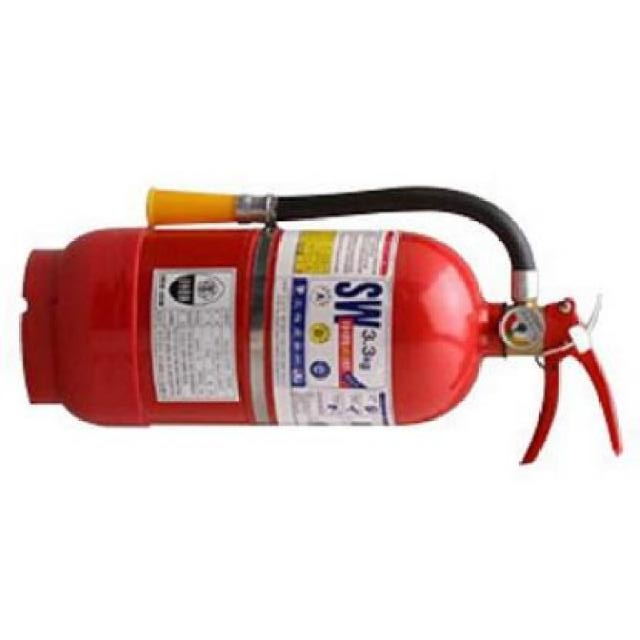fire extinguisher: (20, 186, 623, 466)
